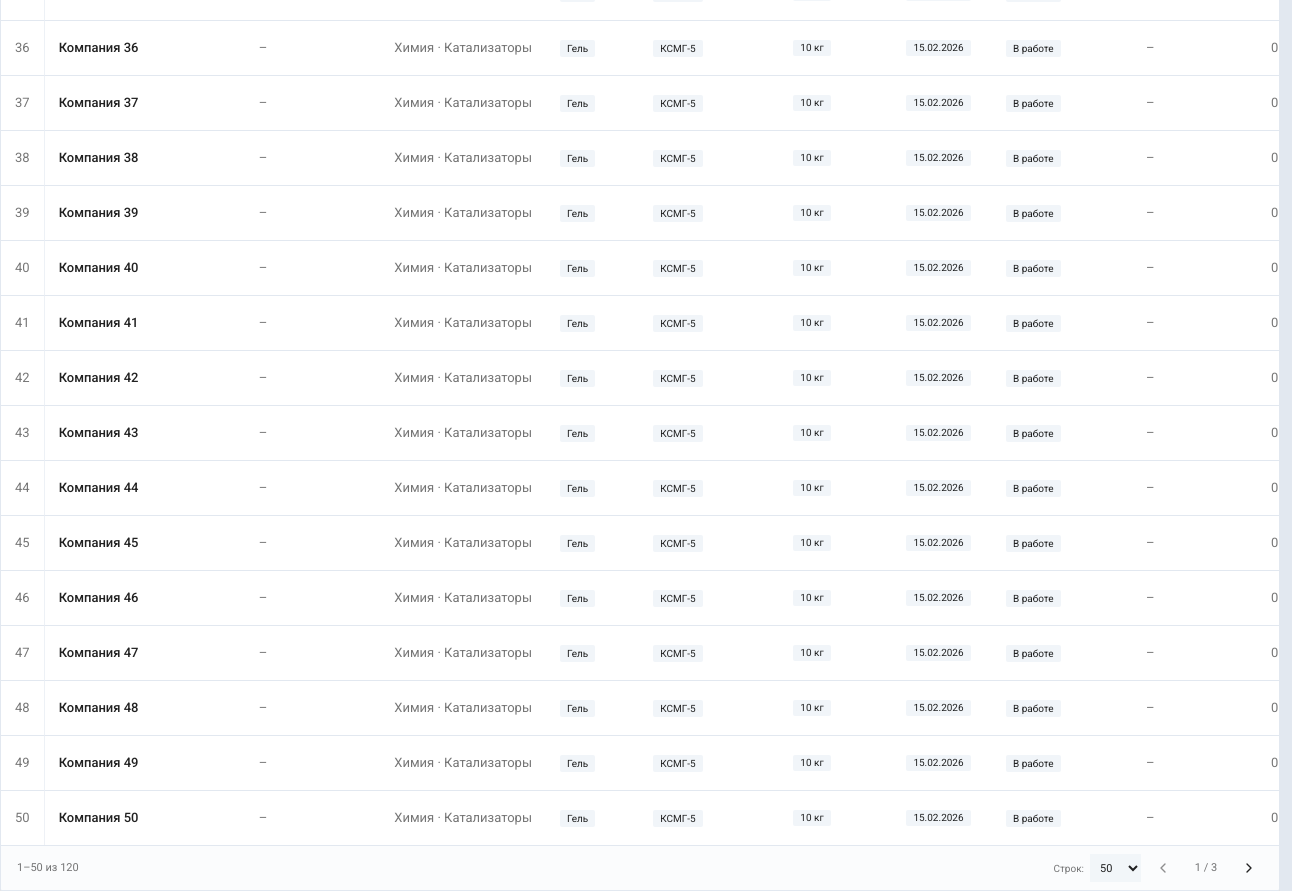
Test: Samples Client Pagination & Invariants › changing page size to 25 updates page count and resets to page 1
The image size is (1292, 891).
(page scrolled)
# Navigate to page 2 first
Click the button named "Следующая страница" at [1249, 868], box [1235,854,1263,882]
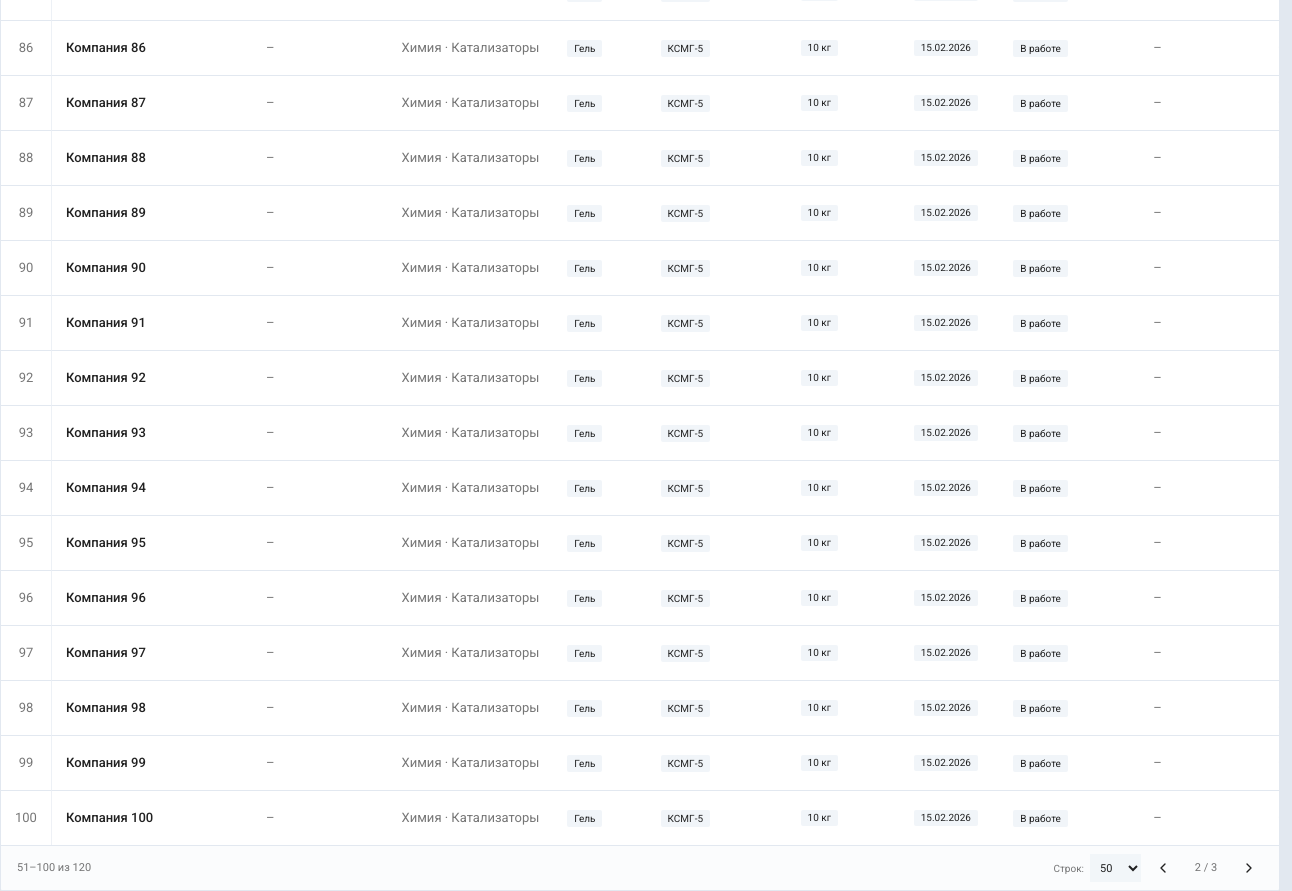
Expected: the text "2 / 3" is shown, [1195,861,1217,874]
# Change page size to 25
Select "25" in the dropdown named "Строк на странице" at [1116, 868], box [1090,854,1141,882]
(page scrolled)
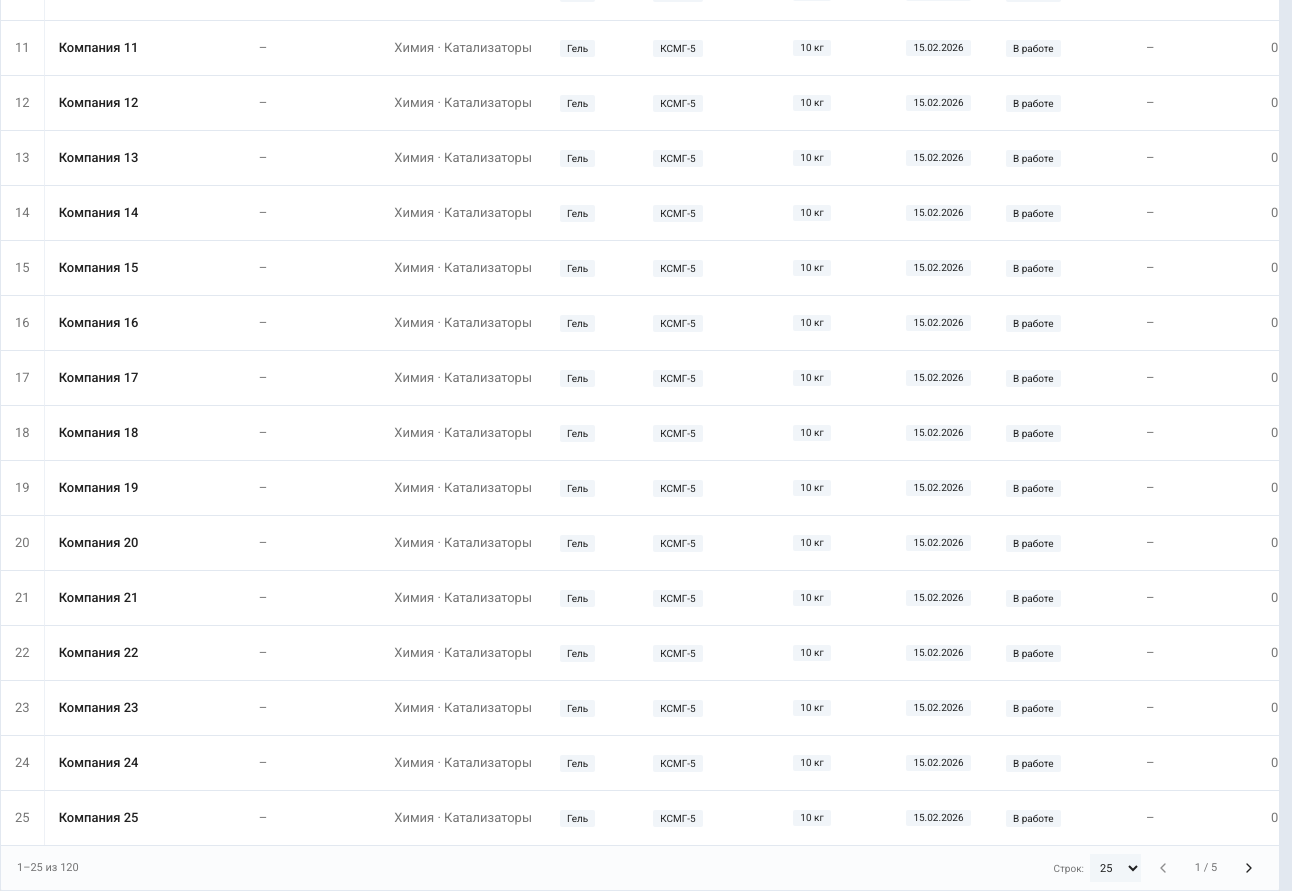
Expected: the text "1–25 из 120" is shown, [17,860,79,876]
Expected: the text "1 / 5" is shown, [1195,861,1217,874]
Expected: the cell "25" is shown, [1,791,45,845]
